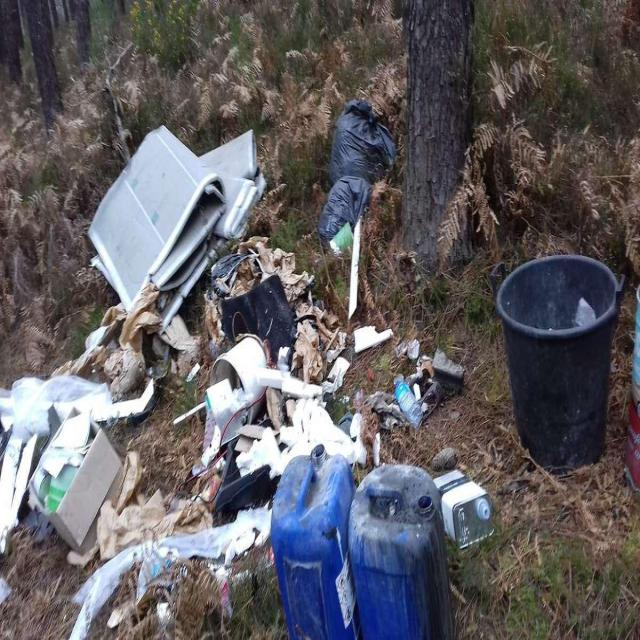garbage: (0, 100, 491, 640)
